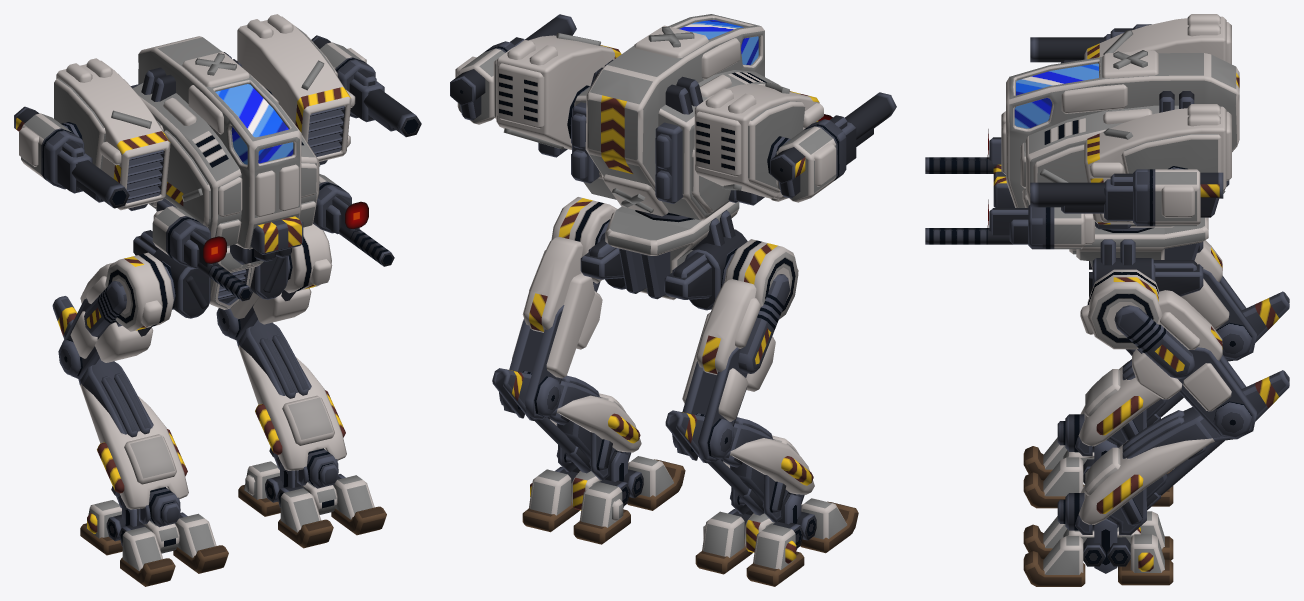
Rendered from StaticMech_Plain.FBX.
The picture shows the model from 3 angles, left to right: view 1: azimuth 30°, elevation 25°; view 2: azimuth 150°, elevation 25°; view 3: azimuth 270°, elevation 25°; orthographic projection. The views are drawn at different scales.
Parts seen in each view (by area): view 1: Box003, Box004, Object006, Object004, Cylinder002, Object005, Cylinder003, Line001, Object010, Object007, Cylinder001, Object003 (+5 smaller); view 2: Box003, Box004, Object005, Line001, Cylinder001, Cylinder002, Object006, Object004, Object011, Object008, Object010, Object007 (+3 smaller); view 3: Box003, Cylinder001, Box004, Object004, Cylinder002, Object006, Cylinder003, Line001, Object007, Object008, Object010, Object005 (+2 smaller).
Boxes of the visible parts, x1,y1,x2,y2 form: Box003: (130, 36, 320, 264); Box004: (54, 14, 355, 210); Object006: (52, 296, 188, 527); Object004: (216, 308, 346, 488); Cylinder002: (14, 35, 421, 208); Object005: (64, 252, 176, 379); Cylinder003: (152, 174, 394, 301); Line001: (133, 209, 287, 318); Object010: (119, 512, 228, 586); Object007: (277, 474, 386, 548); Cylinder001: (229, 224, 332, 340); Object003: (215, 84, 293, 163); Box003: (567, 14, 780, 220); Box004: (493, 32, 823, 205); Object005: (676, 239, 798, 462); Line001: (580, 201, 747, 310); Cylinder001: (502, 197, 617, 419); Cylinder002: (450, 14, 896, 202); Object006: (665, 410, 814, 522); Object004: (492, 368, 641, 480); Object011: (695, 509, 804, 586); Object008: (522, 466, 630, 544); Object010: (796, 498, 858, 553); Object007: (623, 456, 685, 510); Box003: (993, 50, 1239, 229); Cylinder001: (1080, 269, 1256, 439); Box004: (1084, 14, 1231, 224); Object004: (1057, 370, 1289, 535); Cylinder002: (1030, 24, 1223, 226); Object006: (1057, 291, 1289, 456); Cylinder003: (925, 137, 1094, 249); Line001: (1069, 217, 1208, 297); Object007: (1023, 516, 1105, 586); Object008: (1107, 511, 1173, 585); Object010: (1023, 437, 1094, 508); Object005: (1181, 240, 1256, 360).
Bounding box in the file's own units: 10.45 × 13.78 × 9.65.
Materials: 1 (1 with a texture image).
